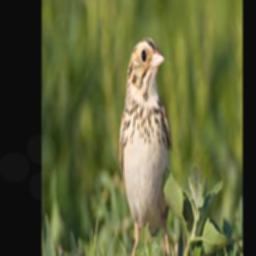Sparrow: (117, 32, 174, 256)
